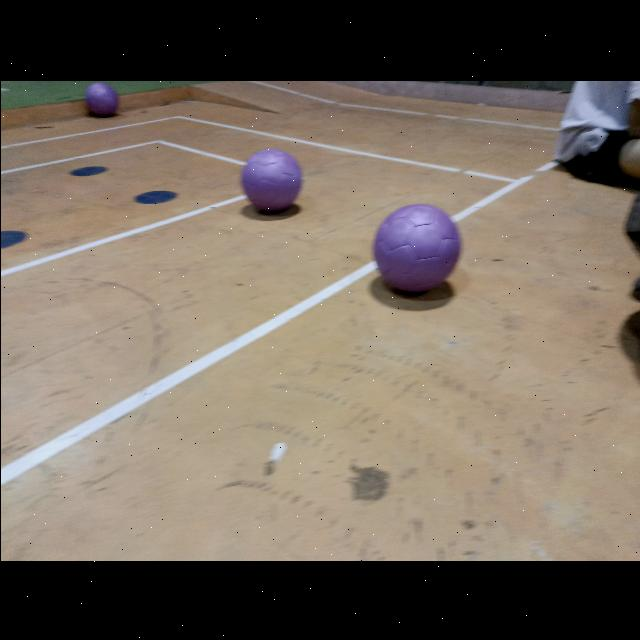P: (373, 203, 459, 291), (241, 147, 301, 210), (84, 80, 118, 116)
